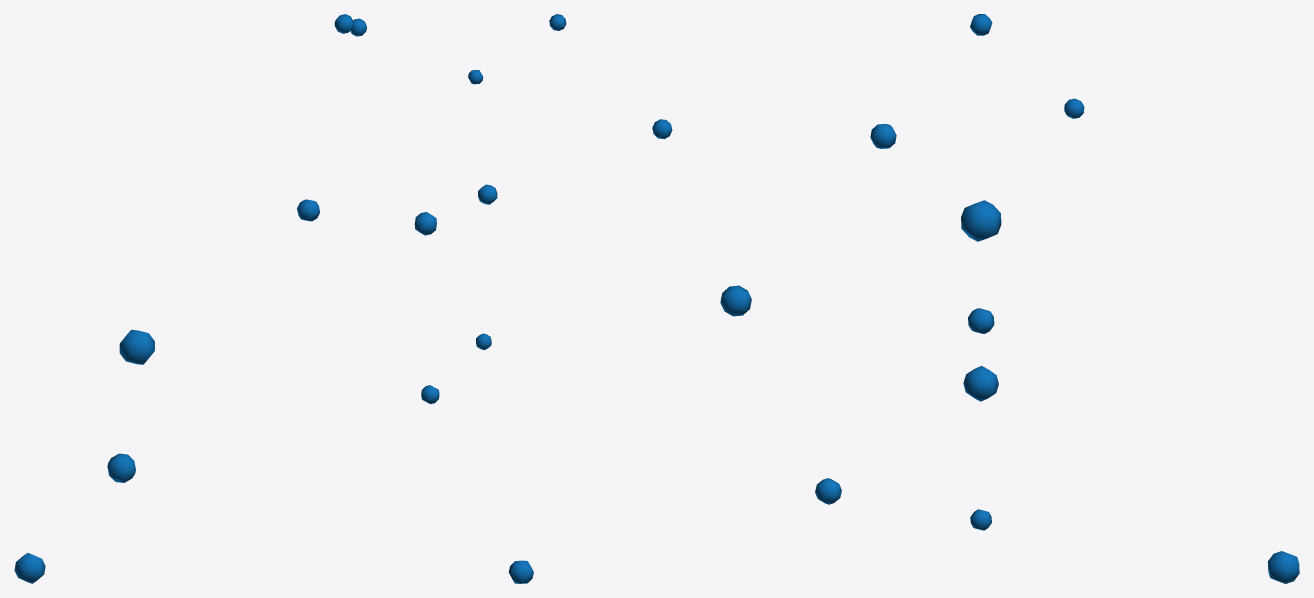
Rendered from OrnamentBallTreeBlueFbx.FBX.
3 renders of one model, left to right at view 1: azimuth 30°, elevation 25°; view 2: azimuth 150°, elevation 25°; view 3: azimuth 270°, elevation 25°, orthographic. The views are drawn at different scales.
Parts seen in each view (by area): view 1: Bolinhas1; view 2: Bolinhas1; view 3: Bolinhas1.
Boxes of the visible parts, x1,y1,x2,y2 form: Bolinhas1: [14, 14, 439, 583]; Bolinhas1: [468, 14, 841, 583]; Bolinhas1: [870, 14, 1299, 583].
Bounding box in the file's own units: 112 × 137 × 86.48.
